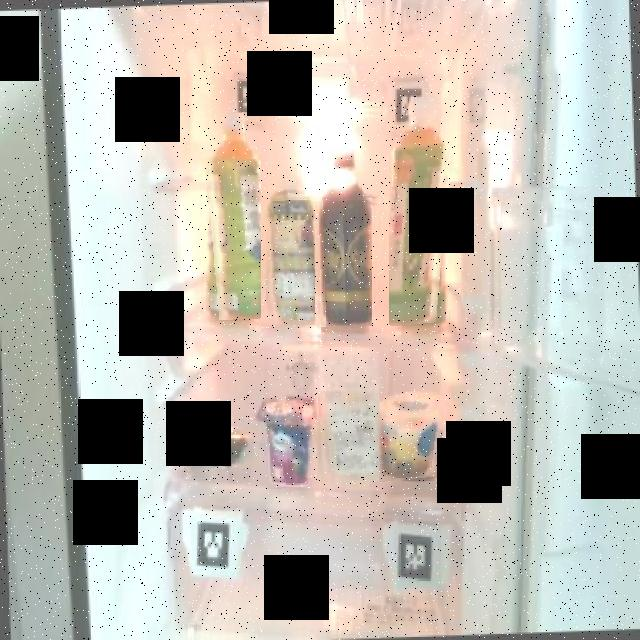coffee: (311, 150, 372, 327)
pudding: (379, 388, 447, 483)
rice_ball: (184, 411, 250, 472)
sandwich: (314, 344, 384, 482)
tea_i: (389, 120, 453, 328), (201, 112, 261, 320), (260, 168, 315, 326)
yogurt: (254, 390, 317, 487)
